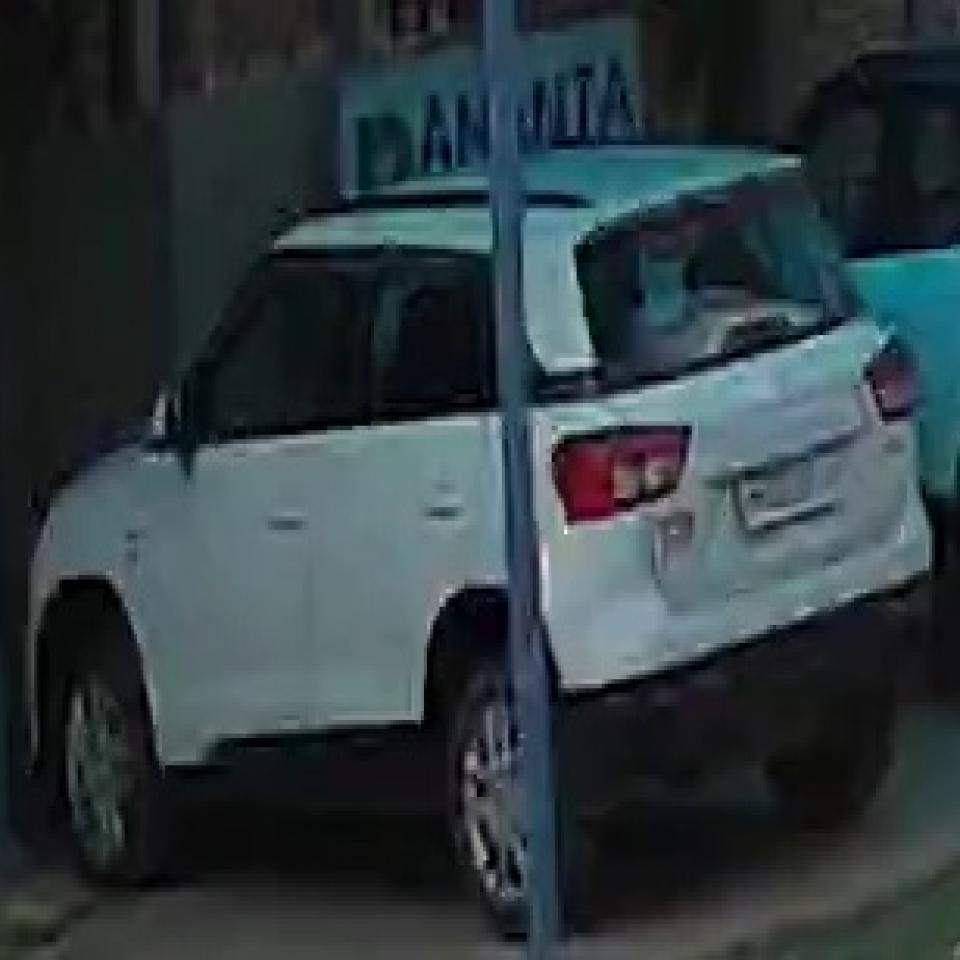tail_light: (552, 418, 691, 521), (862, 324, 922, 431)
